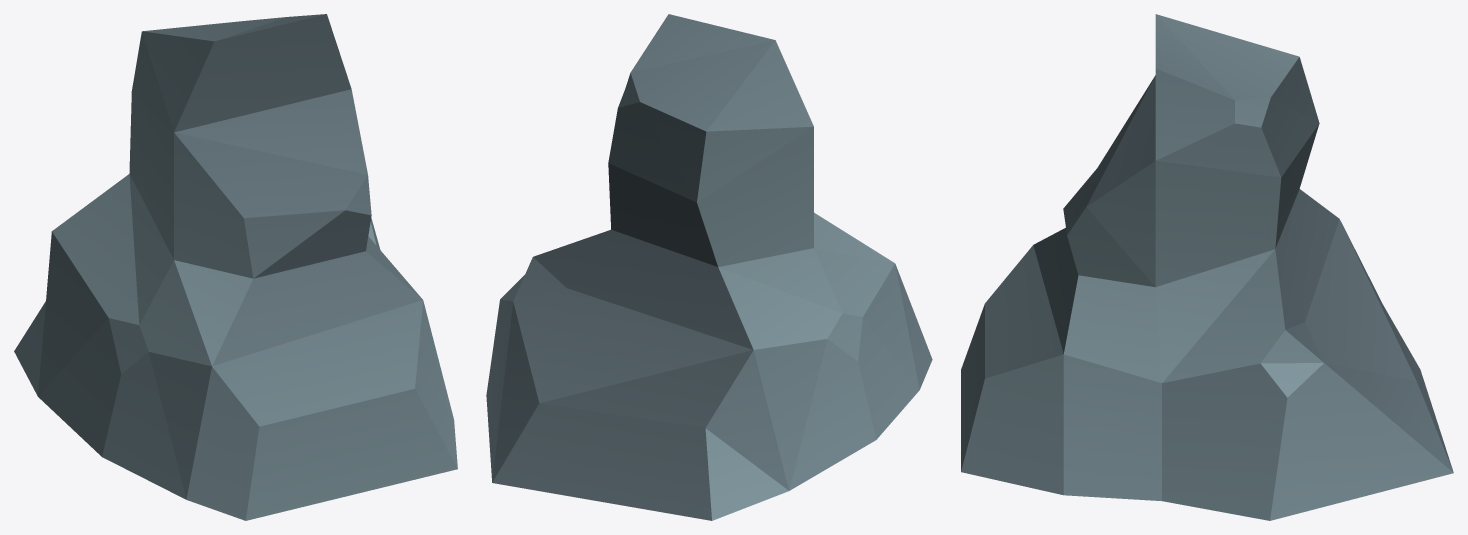
File: Rock07.fbx
3 renders of one model, left to right at view 1: azimuth 30°, elevation 25°; view 2: azimuth 150°, elevation 25°; view 3: azimuth 270°, elevation 25°, orthographic. The views are drawn at different scales.
Visible parts, largest first — view 1: Rock07_LOD0; view 2: Rock07_LOD0; view 3: Rock07_LOD0.
Part boxes in pixels (box(x1,y1,x2,y2)): Rock07_LOD0: box(14, 14, 457, 520); Rock07_LOD0: box(486, 14, 932, 520); Rock07_LOD0: box(961, 14, 1453, 520).
Size of the model in its own units: 288 by 303 by 349.
